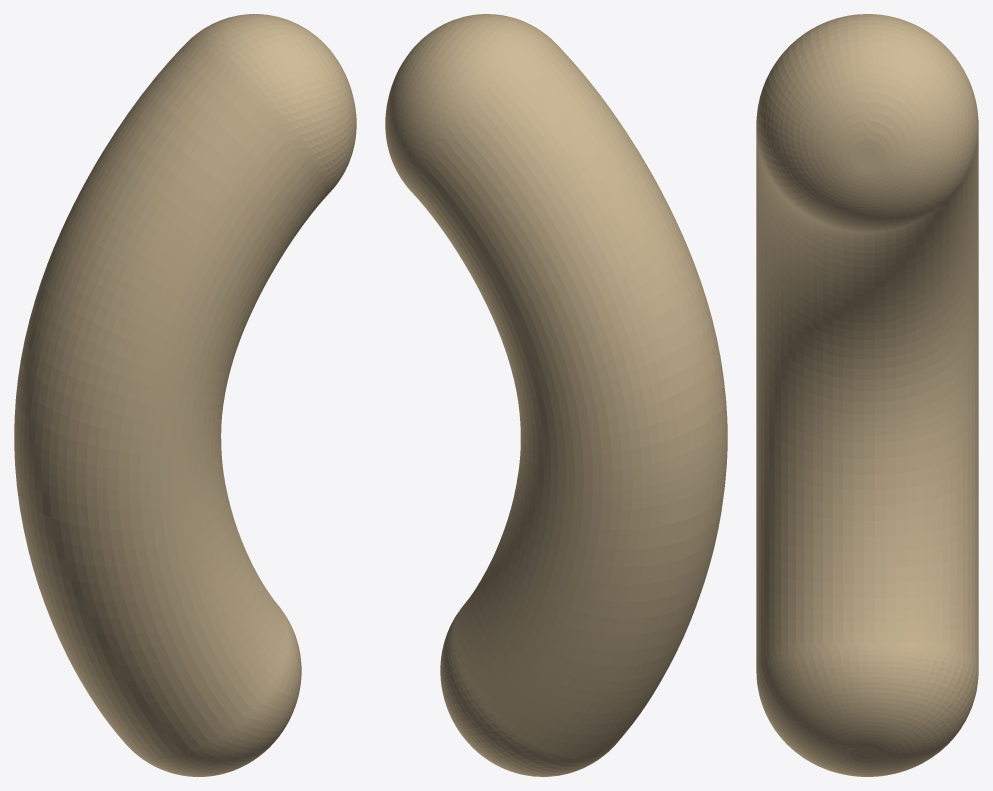
File: batterio.fbx
3 views of the same model, side by side, from view 1: azimuth 30°, elevation 25°; view 2: azimuth 150°, elevation 25°; view 3: azimuth 270°, elevation 25° (orthographic). The views are drawn at different scales.
Parts seen in each view (by area): view 1: MeshBody1; view 2: MeshBody1; view 3: MeshBody1.
Part boxes in pixels (left/top/right/bottom): MeshBody1: left=14, top=14, right=356, bottom=776; MeshBody1: left=385, top=14, right=727, bottom=776; MeshBody1: left=756, top=14, right=978, bottom=776.
Size of the model in its own units: 1921 by 4304 by 1118.
